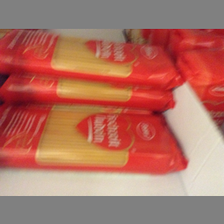pasta: (1, 104, 187, 172), (1, 30, 180, 88), (1, 74, 177, 110)
